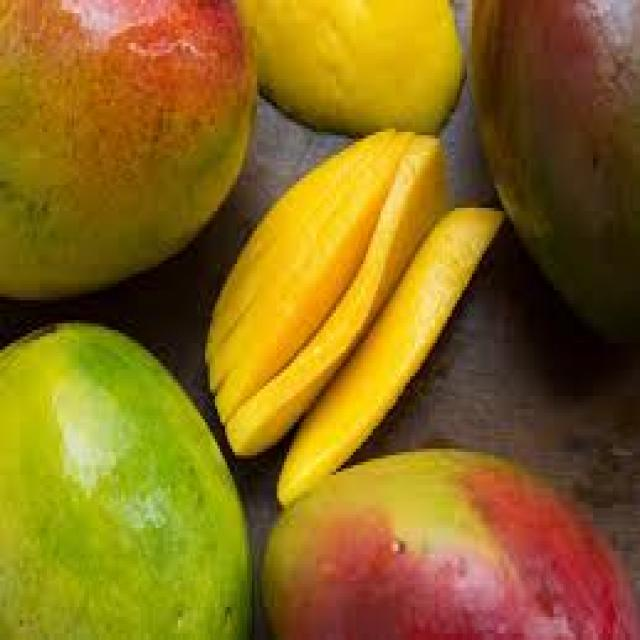mango: (205, 130, 509, 501), (0, 316, 248, 640), (259, 462, 640, 640), (233, 0, 474, 142)
